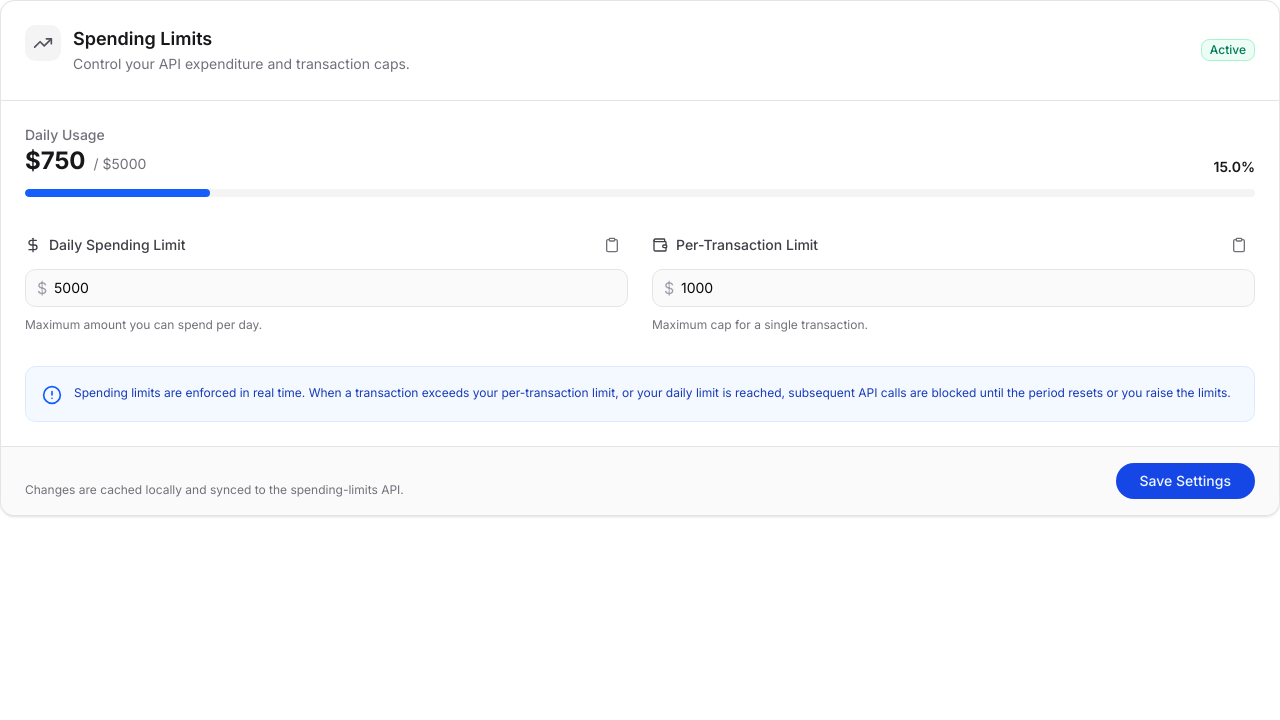
SpendingLimitsCard › saves limits via PUT and persists the cache
The width and height of the screenshot is (1280, 720).
Replace the text in the number field labelled "Daily Spending Limit" with "8000" at (326, 288), box [25,269,628,307]
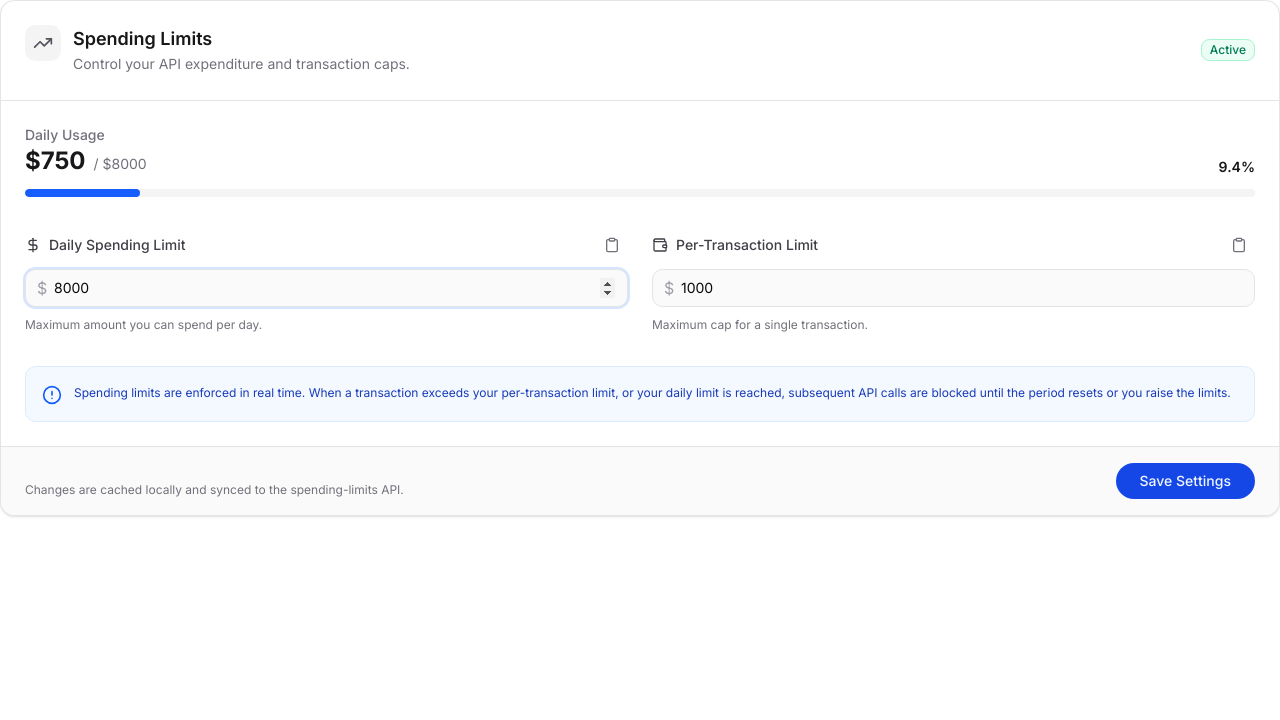
Replace the text in the number field labelled "Per-Transaction Limit" with "2000" at (954, 288), box [652,269,1255,307]
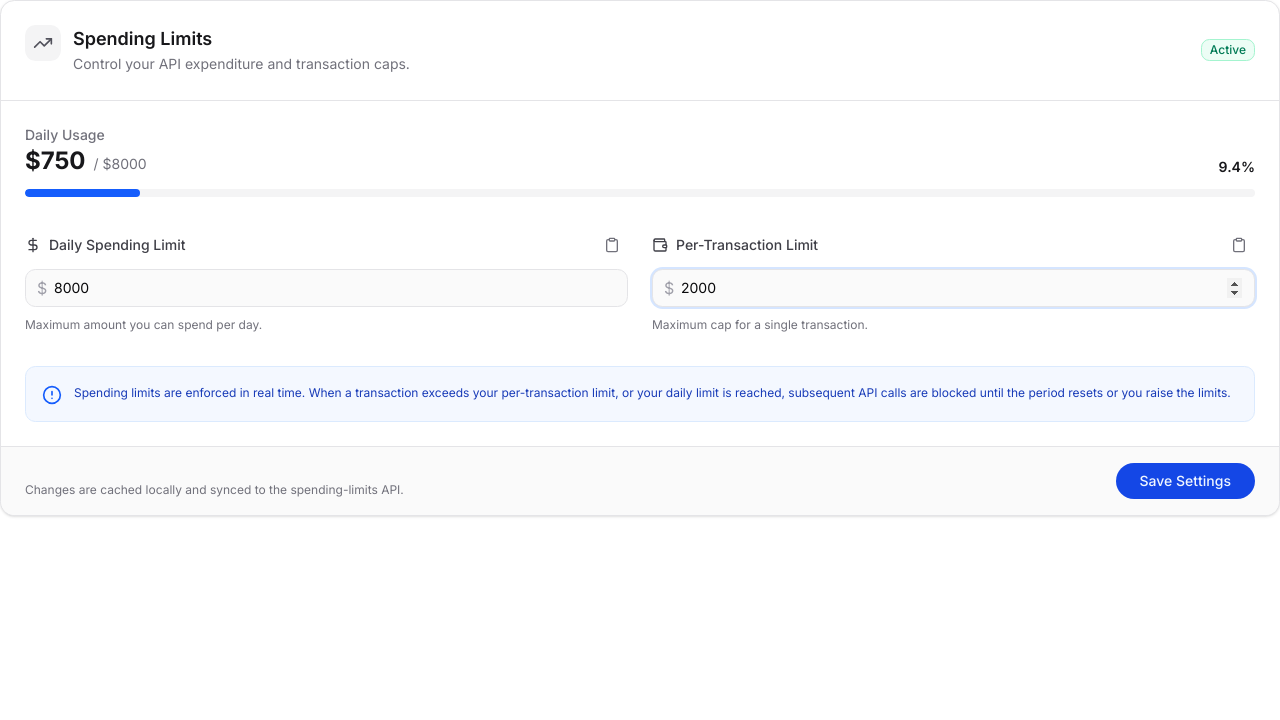
Click the button "Save Settings" at (1185, 481), box [1116,463,1255,499]
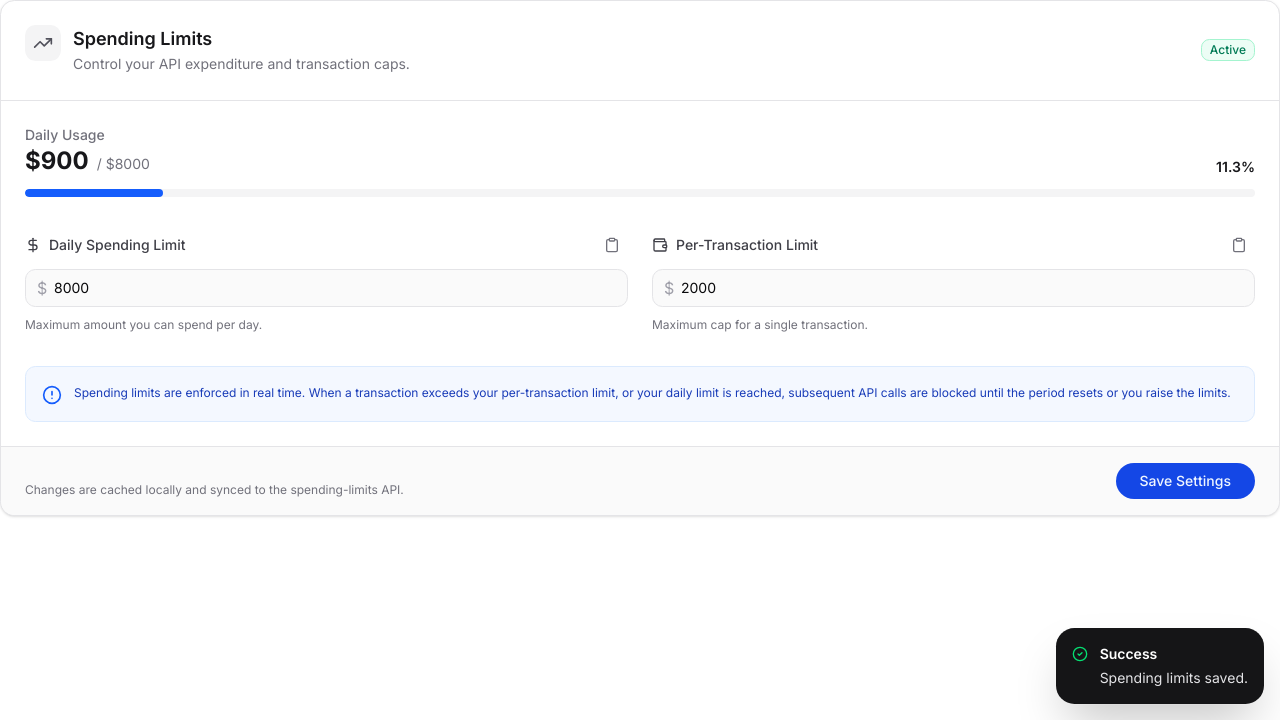
Now the text "Spending limits saved." is shown, box [1100,668,1248,688]
